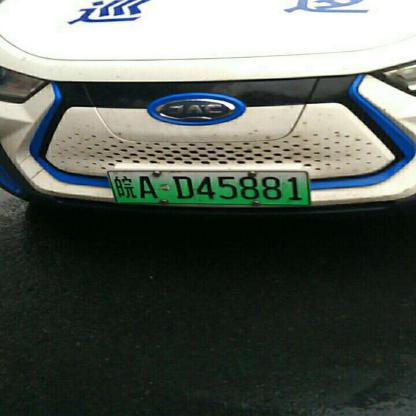lp: (107, 170, 310, 205)
